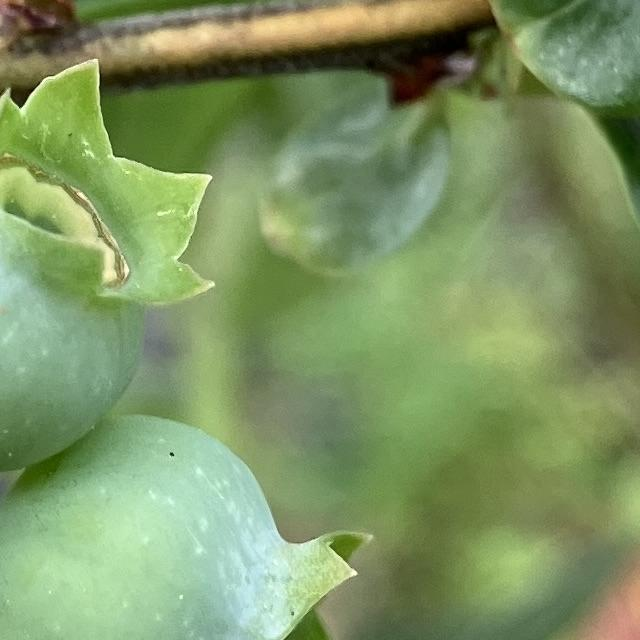Blueberries: (0, 49, 228, 476), (0, 408, 371, 640)
